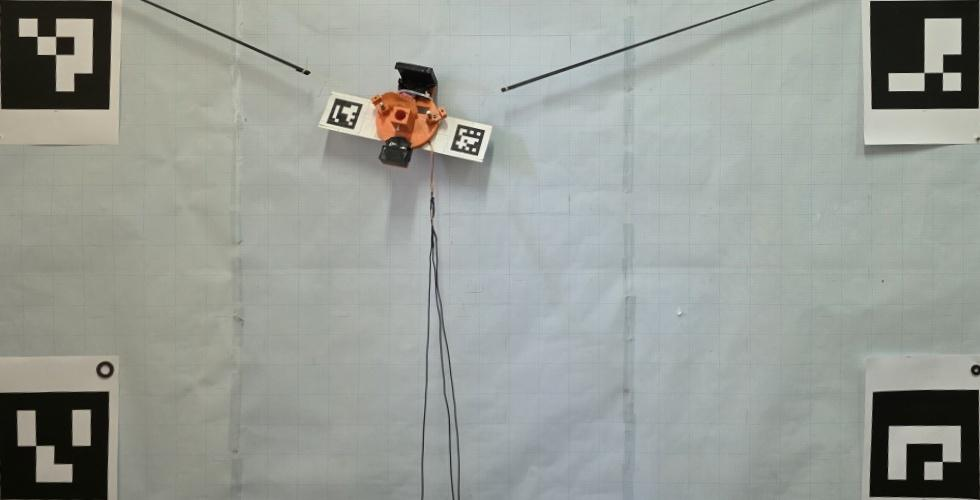robot: (371, 61, 447, 169)
